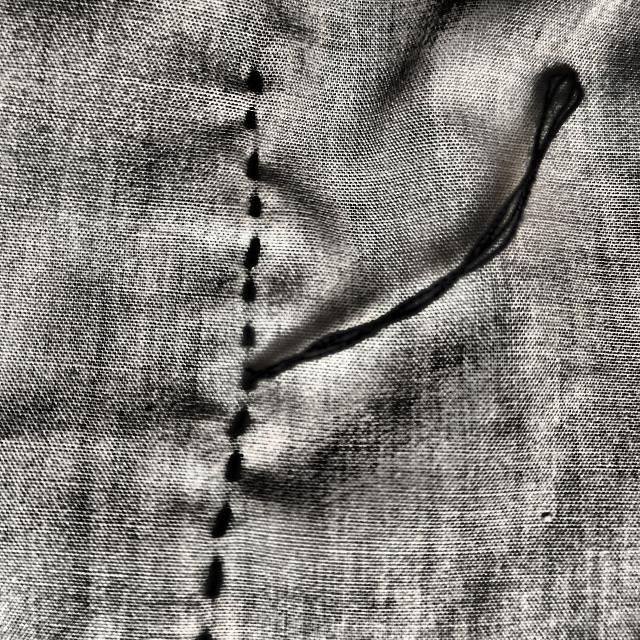Stitch: (200, 42, 608, 420)
